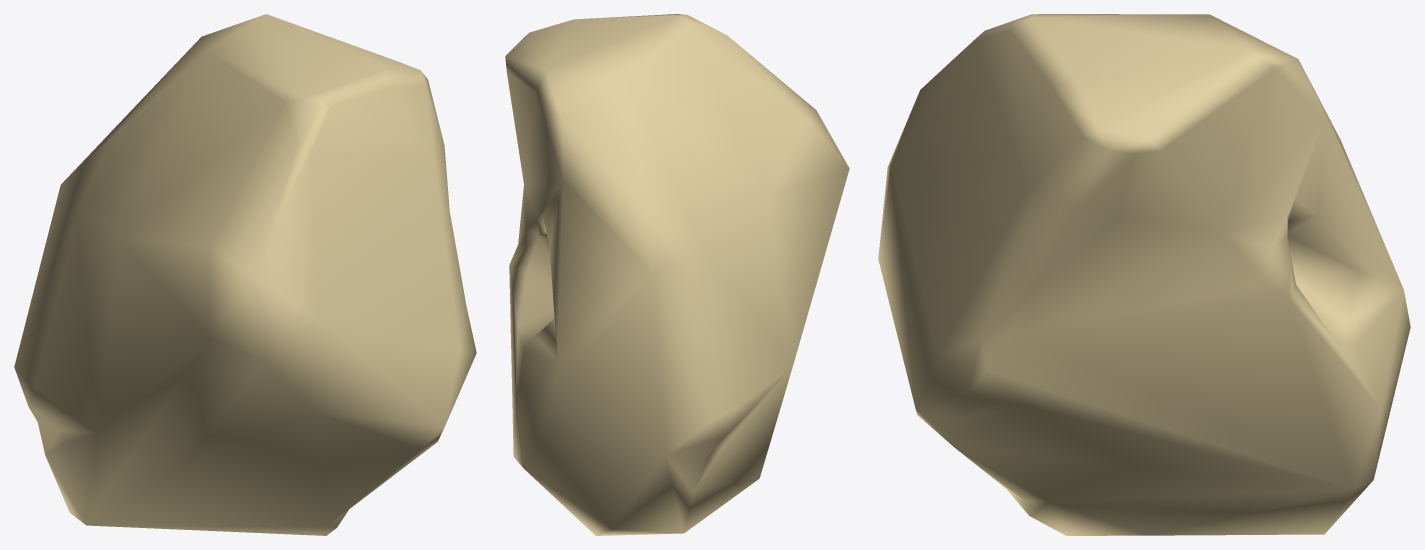
3 renders of one model, left to right at view 1: azimuth 30°, elevation 25°; view 2: azimuth 150°, elevation 25°; view 3: azimuth 270°, elevation 25°, orthographic. The views are drawn at different scales.
Parts seen in each view (by area): view 1: 左侧三角骨; view 2: 左侧三角骨; view 3: 左侧三角骨.
Part boxes in pixels (bbox=[...]): 左侧三角骨: bbox=[14, 14, 476, 535]; 左侧三角骨: bbox=[505, 14, 849, 535]; 左侧三角骨: bbox=[878, 14, 1410, 535].
Size of the model in its own units: 0.0164 by 0.0235 by 0.021.
